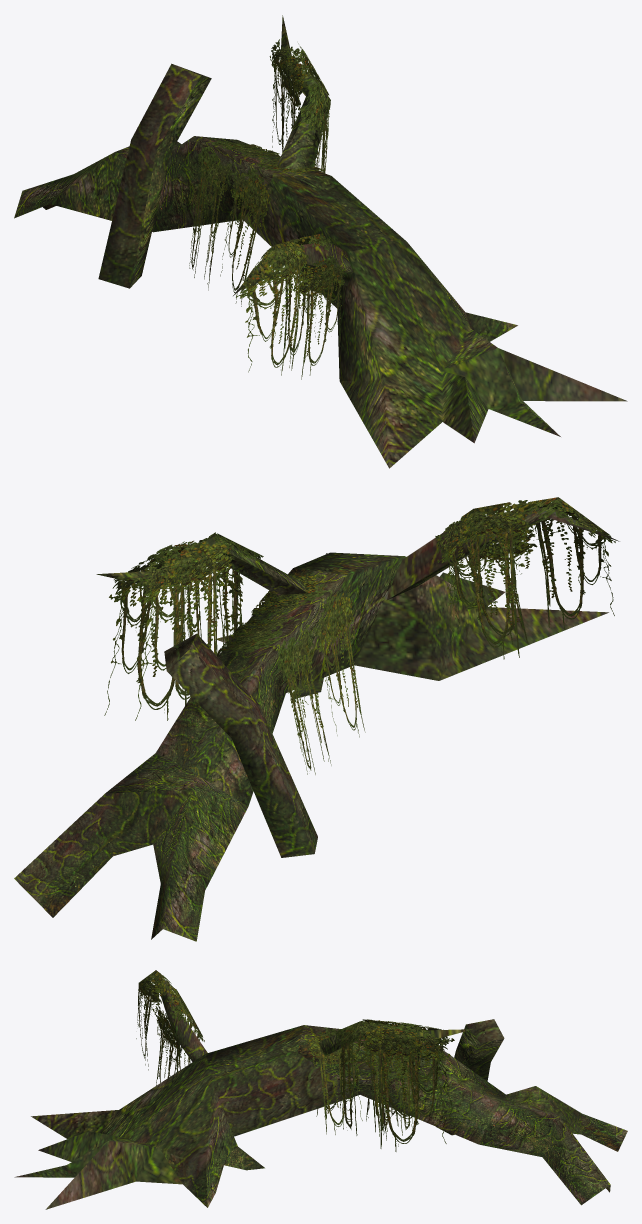
The model's file is fxmg_shu3.FBX.
3 renders of one model, top to bottom at view 1: azimuth 30°, elevation 25°; view 2: azimuth 150°, elevation 25°; view 3: azimuth 270°, elevation 25°, orthographic. The views are drawn at different scales.
Parts seen in each view (by area): view 1: KLMSM_shu3, KLMSM_shu3_2; view 2: KLMSM_shu3, KLMSM_shu3_2; view 3: KLMSM_shu3, KLMSM_shu3_2.
Boxes of the visible parts, x1,y1,x2,y2 form: KLMSM_shu3: (14, 15, 627, 468); KLMSM_shu3_2: (189, 39, 345, 379); KLMSM_shu3: (14, 507, 619, 941); KLMSM_shu3_2: (104, 497, 615, 774); KLMSM_shu3: (14, 978, 627, 1209); KLMSM_shu3_2: (136, 970, 454, 1151).
Bounding box in the file's own units: 378 × 257 × 783.
